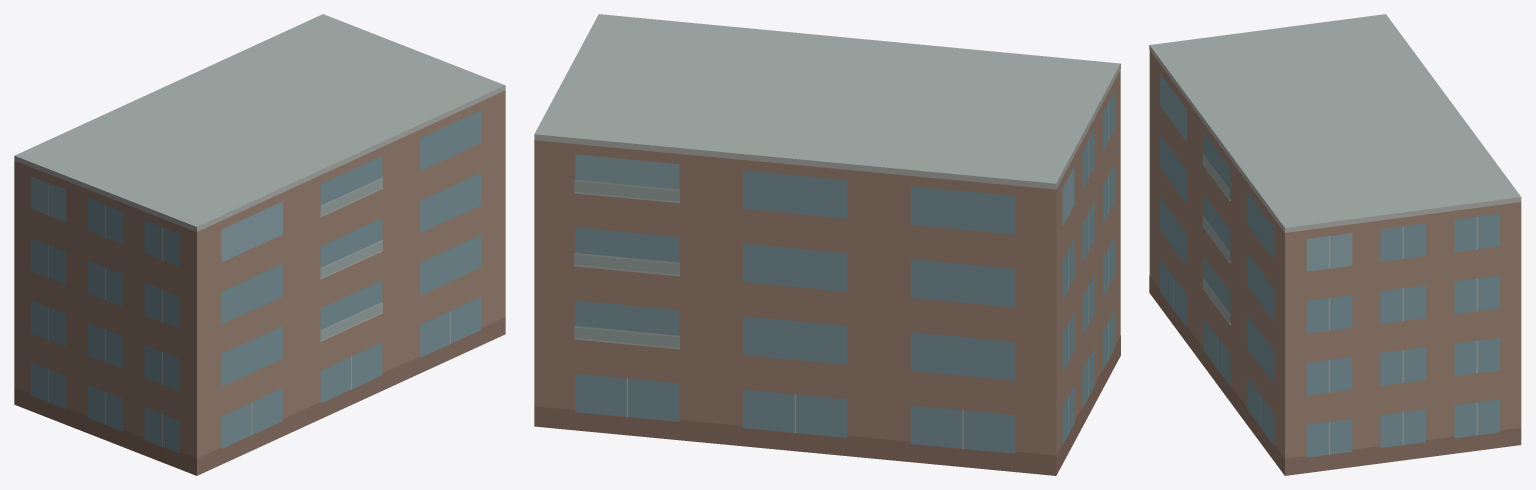
Rendered from survey-upis-32915246.glb.
3 renders of one model, left to right at view 1: azimuth 30°, elevation 25°; view 2: azimuth 150°, elevation 25°; view 3: azimuth 270°, elevation 25°, orthographic. The views are drawn at different scales.
Visible parts, largest first — view 1: survey-upis-32915246.tmp; view 2: survey-upis-32915246.tmp; view 3: survey-upis-32915246.tmp.
Part boxes in pixels (x1,y1,x2,y2): survey-upis-32915246.tmp: (14, 14, 505, 475); survey-upis-32915246.tmp: (534, 14, 1120, 475); survey-upis-32915246.tmp: (1149, 14, 1521, 475).
Bounding box in the file's own units: 22.42 × 12.1 × 16.46.
